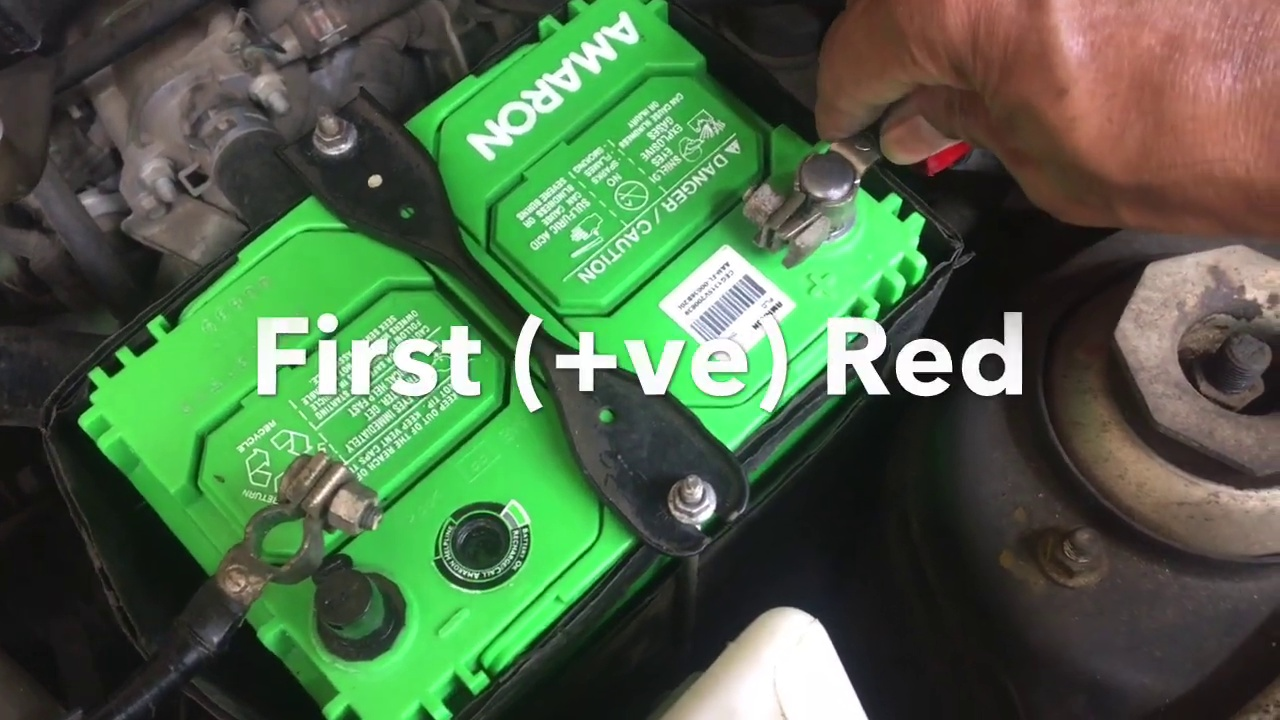battery: (83, 13, 919, 720)
pos_connected: (744, 89, 990, 265)
pos_touched: (747, 1, 1028, 280)
